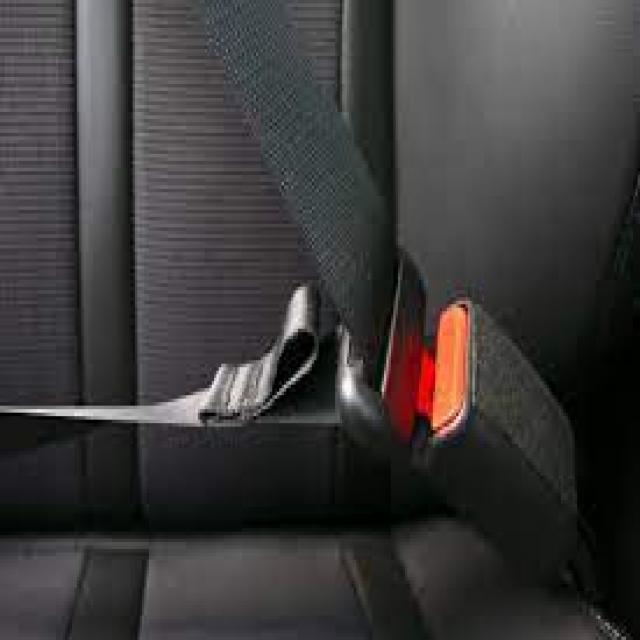seatbelt: (144, 4, 598, 602)
